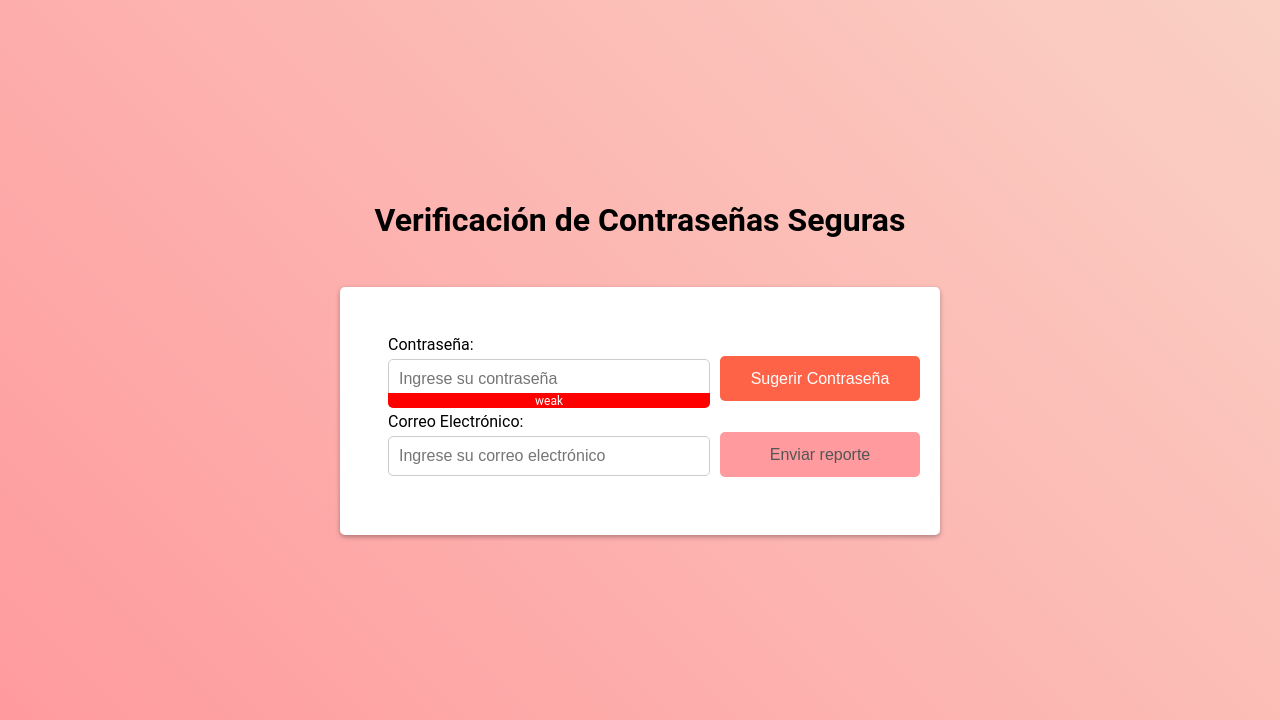
Test: Home › Debería mostrar el resultado del reporte cuando se pulsa el botón "Enviar reporte"
Expected: the element showing "weak" is shown, [388,393,710,408]
Type "Abcdef123!@#" into the element showing "Contraseña: weak Sugerir Contraseña".
click(654, 368); type("Abcdef123!@#")  # box [388,335,920,401]
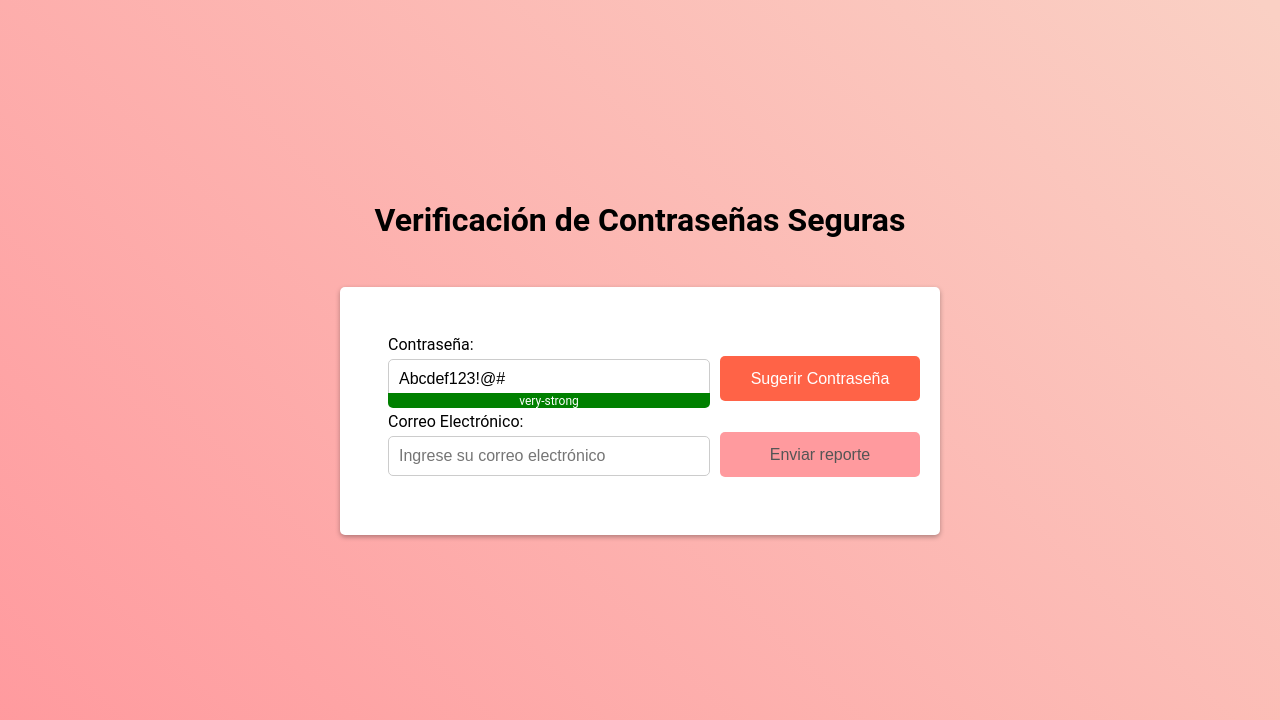
Type "valid@mail.com" into the element with id "emailInput".
click(554, 444); type("valid@mail.com")  # box [388,412,720,476]
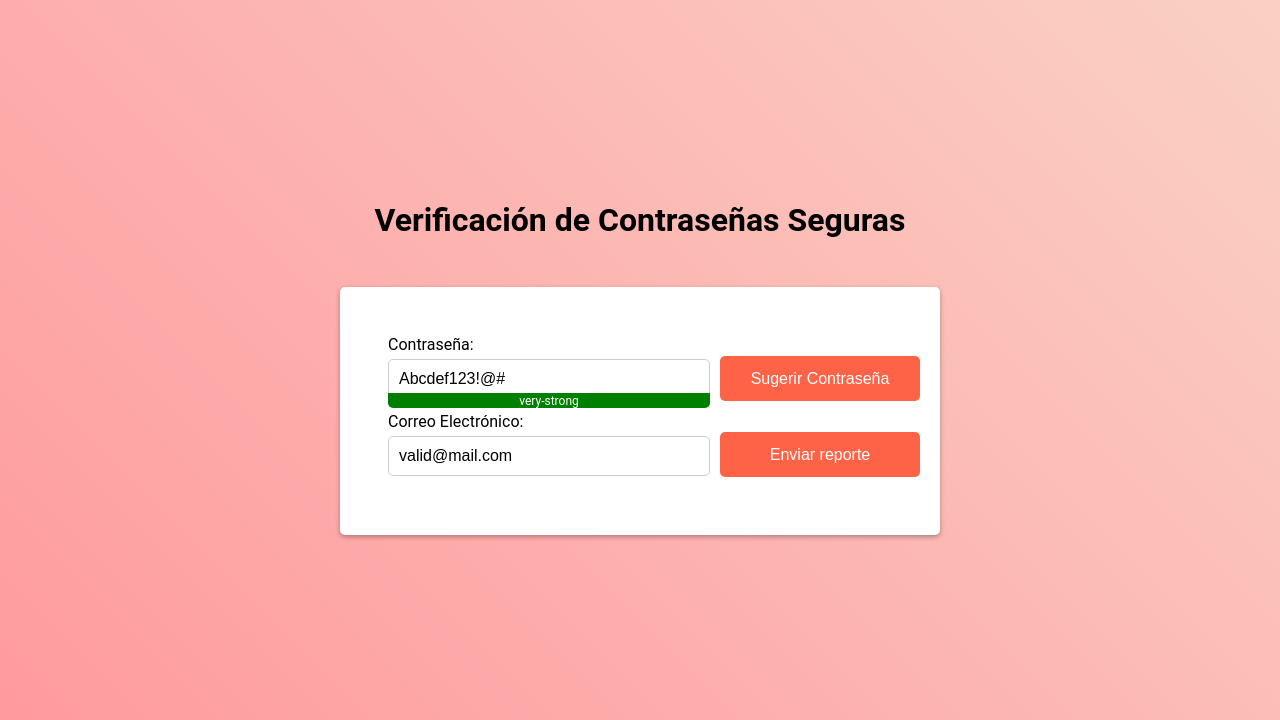
Click the button "Enviar reporte".
click(820, 455)  # box [720,432,920,477]
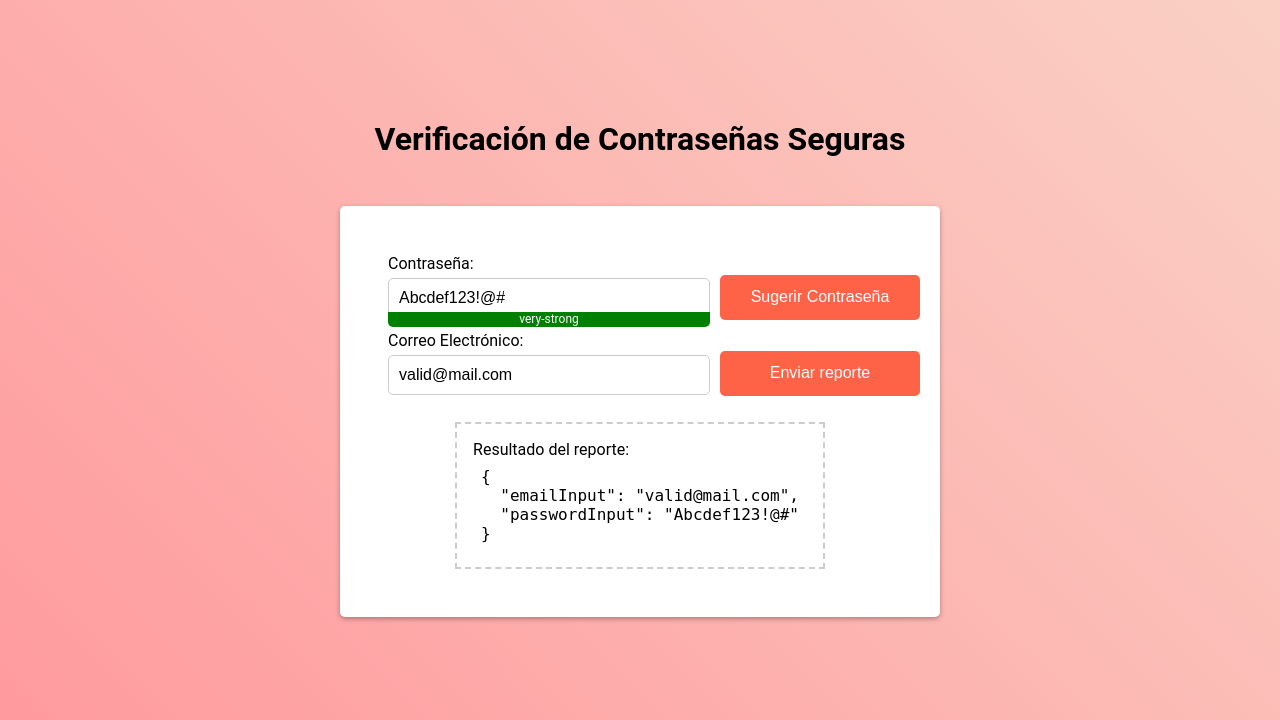
Now the element with class "report-result" is shown, box [455,422,825,569]
Now the text "Resultado del reporte:" is shown, box [473,440,629,458]
Now the text "Abcdef123!@#" is shown, box [481,467,799,543]
